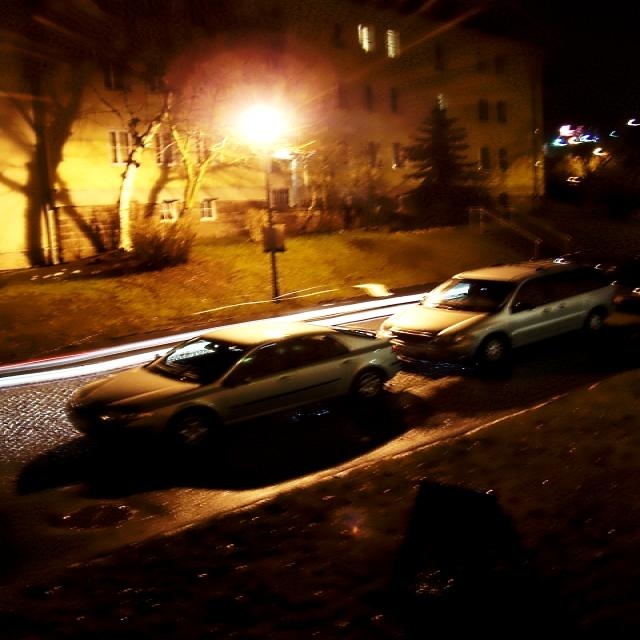Car: (72, 294, 452, 491), (362, 249, 640, 396)
